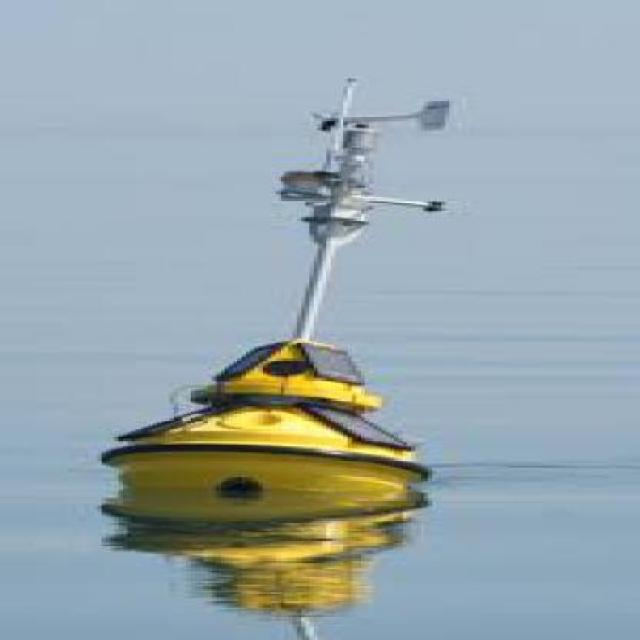buoy: (81, 70, 489, 507)
